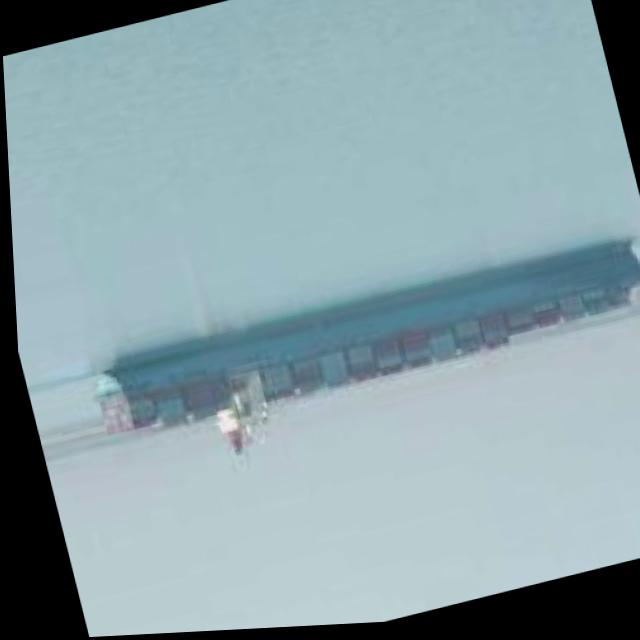ship2: (90, 244, 640, 475)
